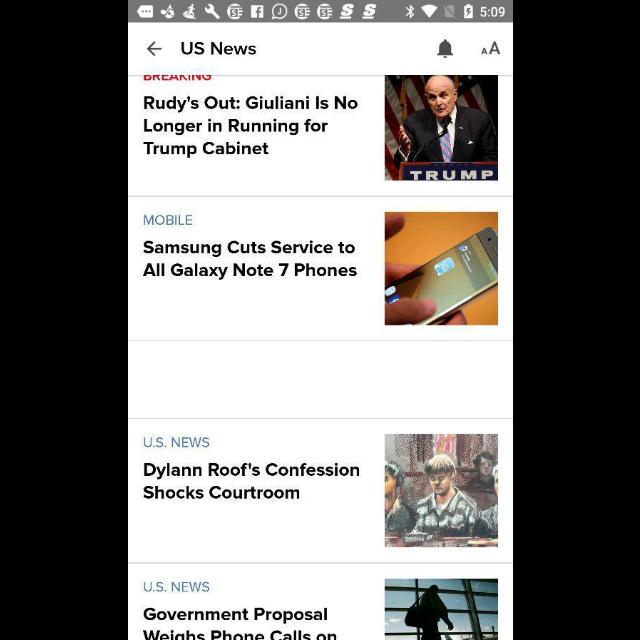icon: (437, 40, 453, 59), (146, 42, 160, 56)
image: (384, 434, 498, 548), (384, 212, 498, 326), (384, 76, 498, 180), (384, 578, 498, 640), (480, 42, 500, 56)
text: (143, 96, 357, 158), (142, 240, 356, 280), (143, 462, 359, 500), (142, 608, 336, 640), (180, 42, 256, 56), (144, 437, 210, 448), (143, 582, 209, 592), (142, 214, 192, 226)
toolbar: (128, 24, 512, 76)
uppertaskbar: (128, 1, 512, 23)
